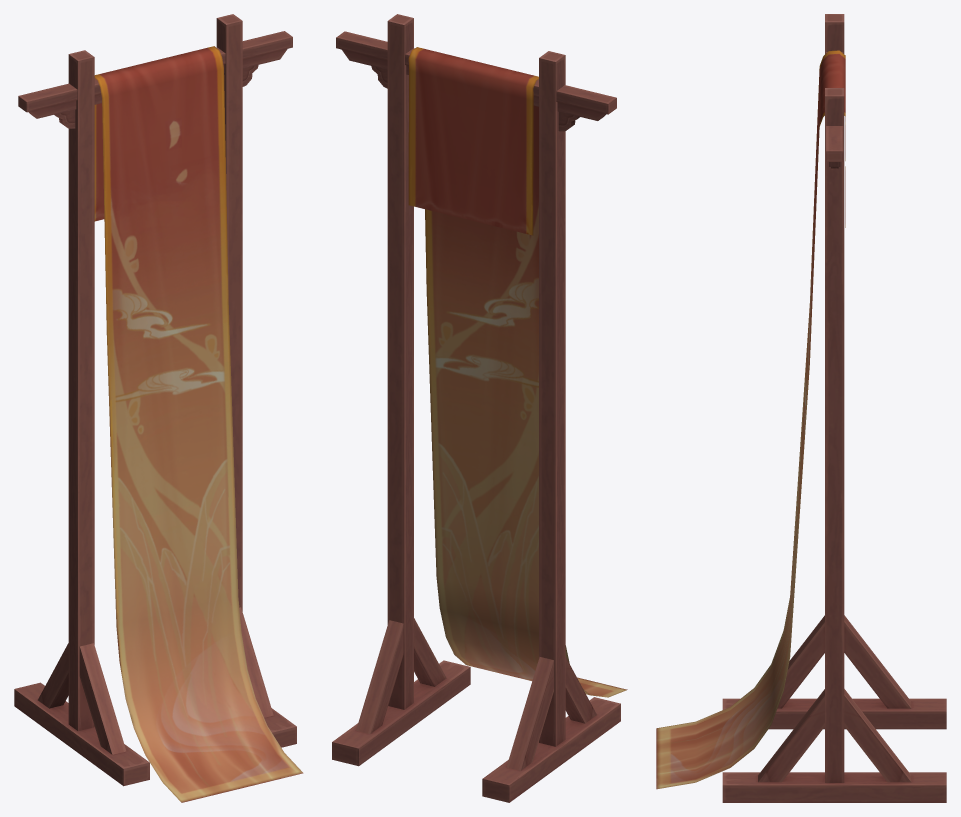
Rendered from Homeworld_Interior_Ly_Decoration_Screen_03_Vo.fbx.
The picture shows the model from 3 angles, left to right: view 1: azimuth 30°, elevation 25°; view 2: azimuth 150°, elevation 25°; view 3: azimuth 270°, elevation 25°; orthographic projection. The views are drawn at different scales.
Visible parts, largest first — view 1: Homeworld_Interior_Ly_Decoration_Screen_03_Vo; view 2: Homeworld_Interior_Ly_Decoration_Screen_03_Vo; view 3: Homeworld_Interior_Ly_Decoration_Screen_03_Vo.
Boxes of the visible parts, left/top/right/bottom form: Homeworld_Interior_Ly_Decoration_Screen_03_Vo: left=14, top=14, right=303, bottom=802; Homeworld_Interior_Ly_Decoration_Screen_03_Vo: left=332, top=14, right=627, bottom=802; Homeworld_Interior_Ly_Decoration_Screen_03_Vo: left=656, top=14, right=946, bottom=802.
Bounding box in the file's own units: 1.62 × 3.99 × 1.49.
